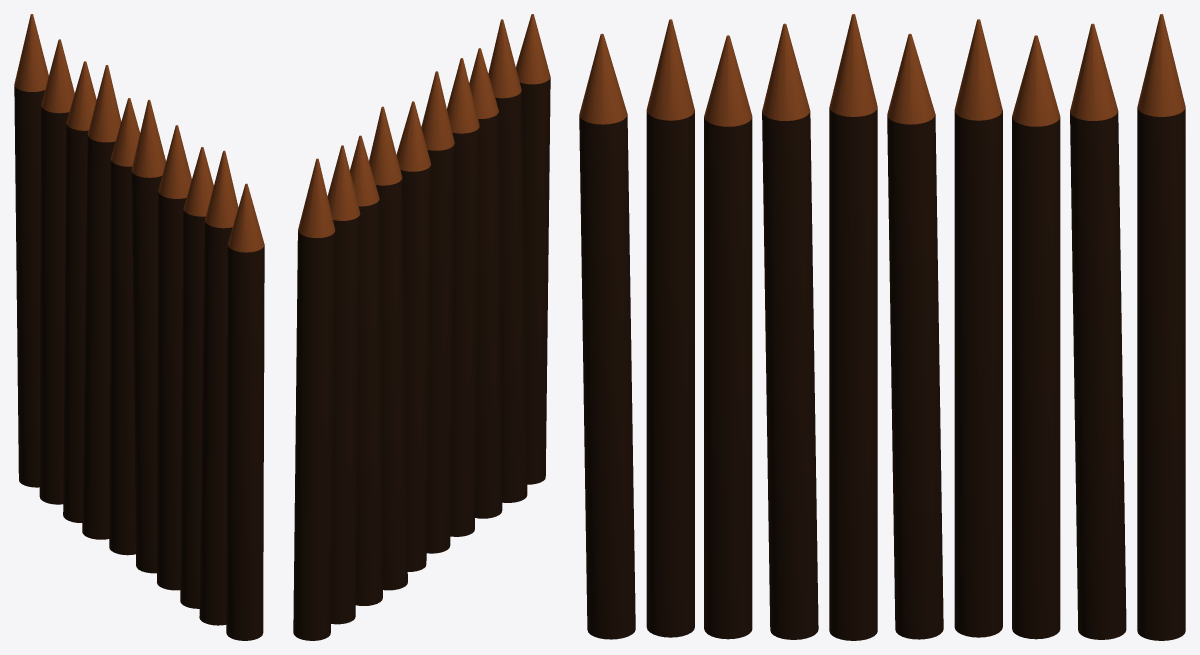
File: wooden_wall_spikes.FBX
The picture shows the model from 3 angles, left to right: view 1: azimuth 30°, elevation 25°; view 2: azimuth 150°, elevation 25°; view 3: azimuth 270°, elevation 25°; orthographic projection. The views are drawn at different scales.
Visible parts, largest first — view 1: Loft-Extrusion016; view 2: Loft-Extrusion016; view 3: Loft-Extrusion016.
Boxes of the visible parts, x1=… form: Loft-Extrusion016: x1=14, y1=14, x2=264, y2=640; Loft-Extrusion016: x1=293, y1=14, x2=550, y2=640; Loft-Extrusion016: x1=579, y1=14, x2=1185, y2=640.
Size of the model in its own units: 0.1091 by 1.15 by 1.28.
